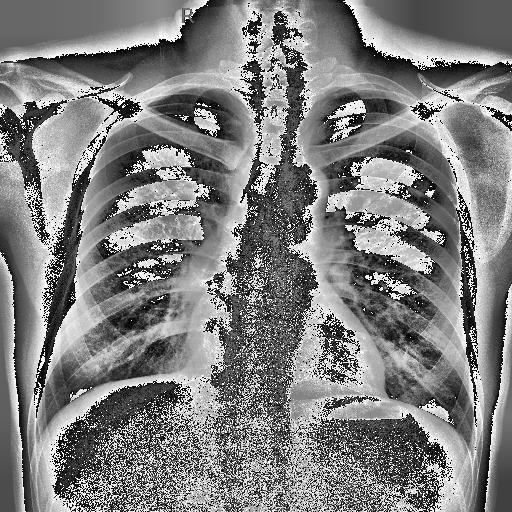11- Pleural thickening: (148, 86, 240, 106)
13- Pulmonary fibrosis: (425, 186, 457, 232), (408, 174, 430, 199)
7- Lung Opacity: (428, 204, 460, 232), (410, 180, 429, 198)
8- Nodule-Mass: (428, 204, 460, 232), (426, 206, 456, 228), (406, 178, 428, 195), (410, 180, 429, 198)
